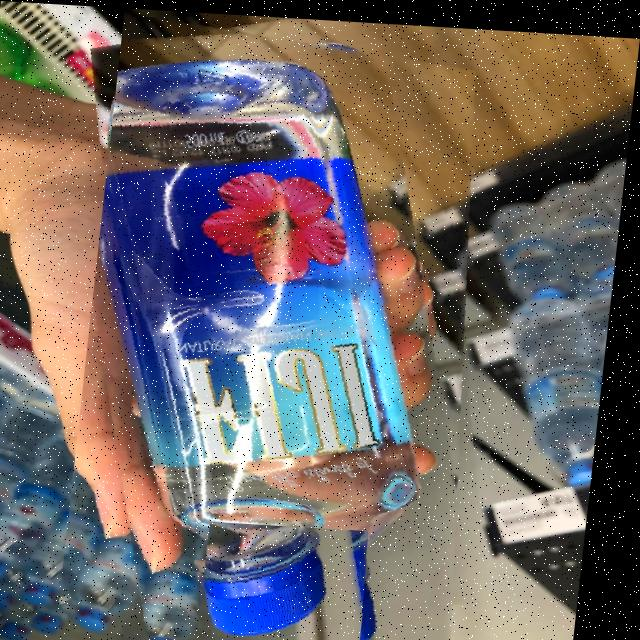litter: (70, 6, 521, 640), (209, 517, 384, 640)
